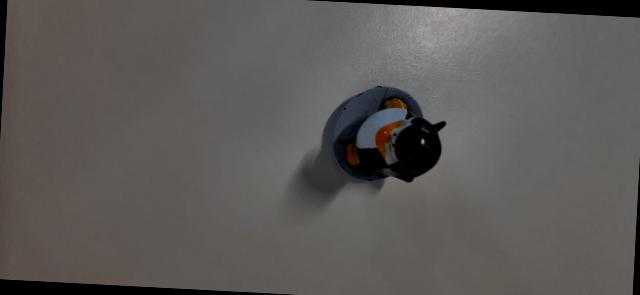Penguin: (315, 69, 455, 196)
